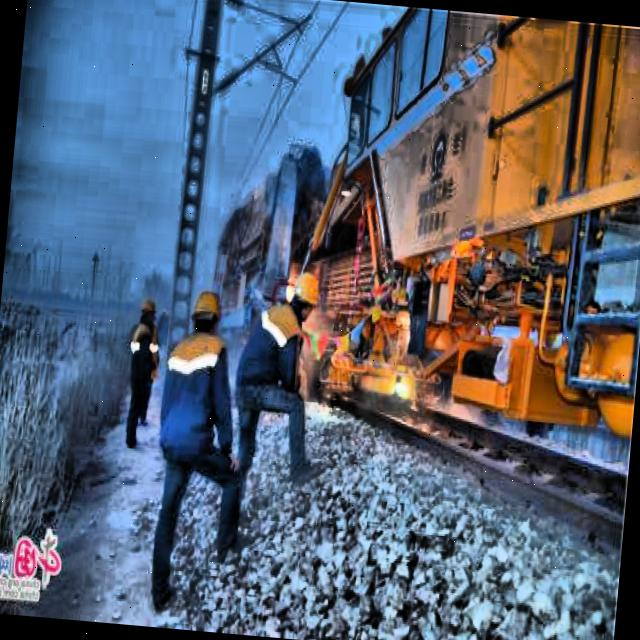helmet: (184, 286, 223, 342), (286, 270, 324, 326), (135, 292, 162, 326)
